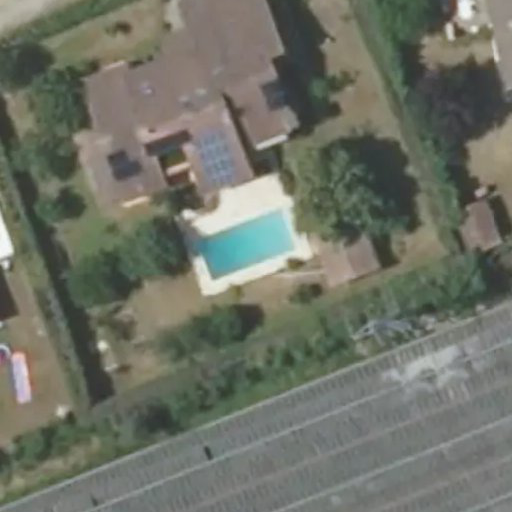pool: (199, 238, 312, 245)
